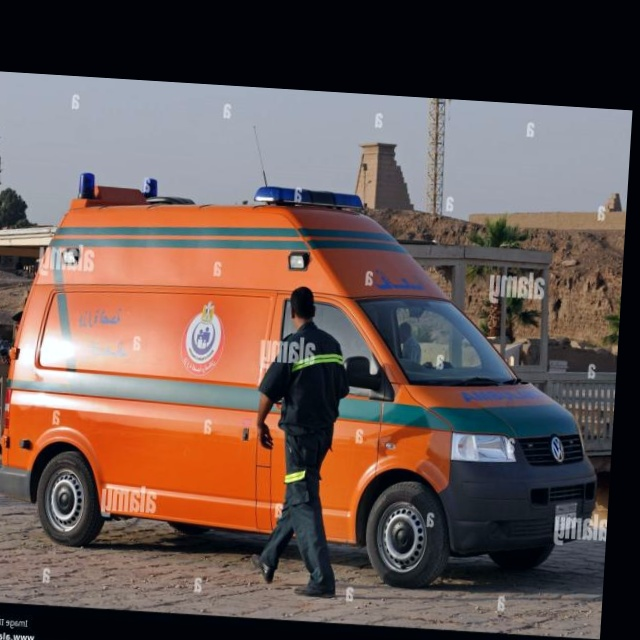Ambulance: (0, 165, 617, 601)
person: (245, 283, 356, 599), (397, 321, 423, 364)
